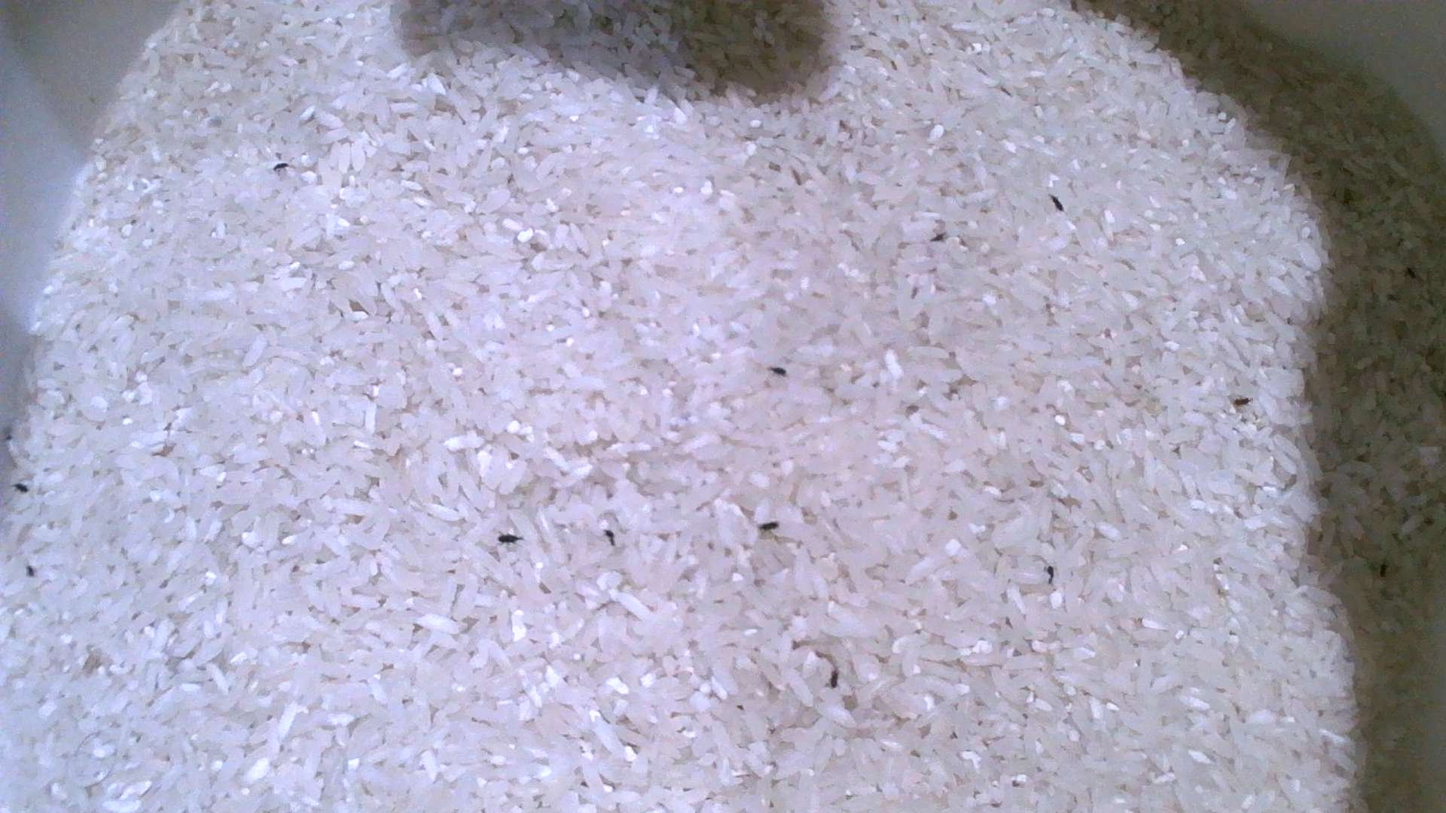Sitophilus-Oryzae: (497, 534, 521, 544), (758, 521, 779, 531), (1051, 194, 1063, 211), (273, 162, 289, 171), (769, 367, 786, 375), (14, 483, 29, 492), (1234, 398, 1249, 406)
